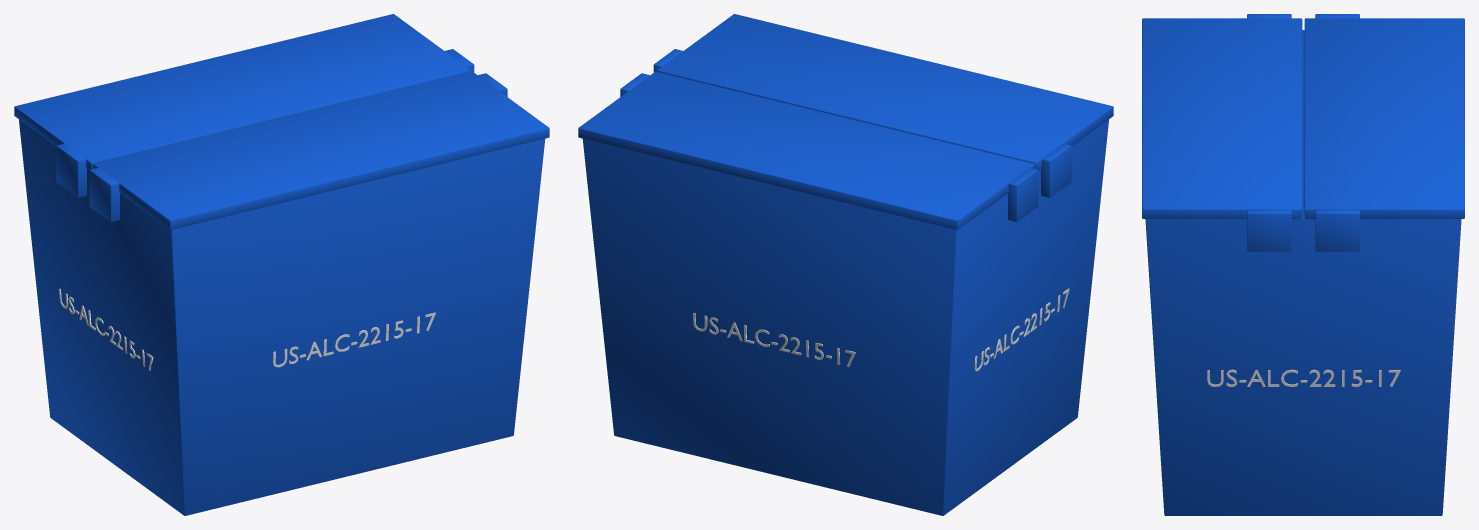
File: US-ALC-2215-17.glb
3 views of the same model, side by side, from view 1: azimuth 30°, elevation 25°; view 2: azimuth 150°, elevation 25°; view 3: azimuth 270°, elevation 25° (orthographic). The views are drawn at different scales.
Visible parts, largest first — view 1: us-alc-546x387x432; view 2: us-alc-546x387x432; view 3: us-alc-546x387x432.
Part boxes in pixels (bbox=[...]): us-alc-546x387x432: bbox=[14, 14, 549, 515]; us-alc-546x387x432: bbox=[578, 14, 1113, 515]; us-alc-546x387x432: bbox=[1142, 14, 1464, 515].
Bounding box in the file's own units: 0.579 × 0.432 × 0.395.
